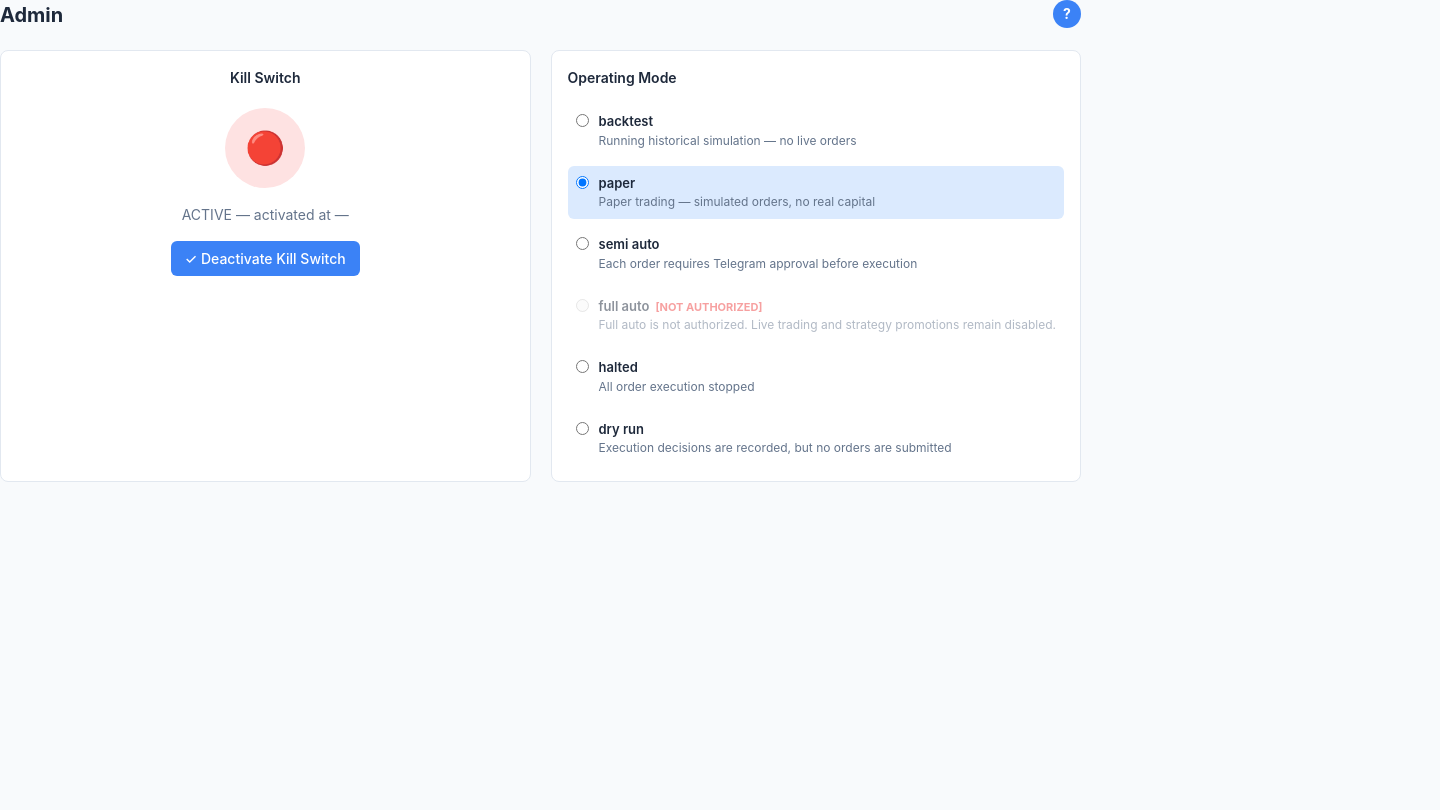
Scenario: F0-3 Admin and Config Safety Guardrails › kill-switch deactivation requires confirmation dialog with mandatory safety copy
Click the button "✓ Deactivate Kill Switch" at (265,258), box left=171, top=241, right=360, bottom=276
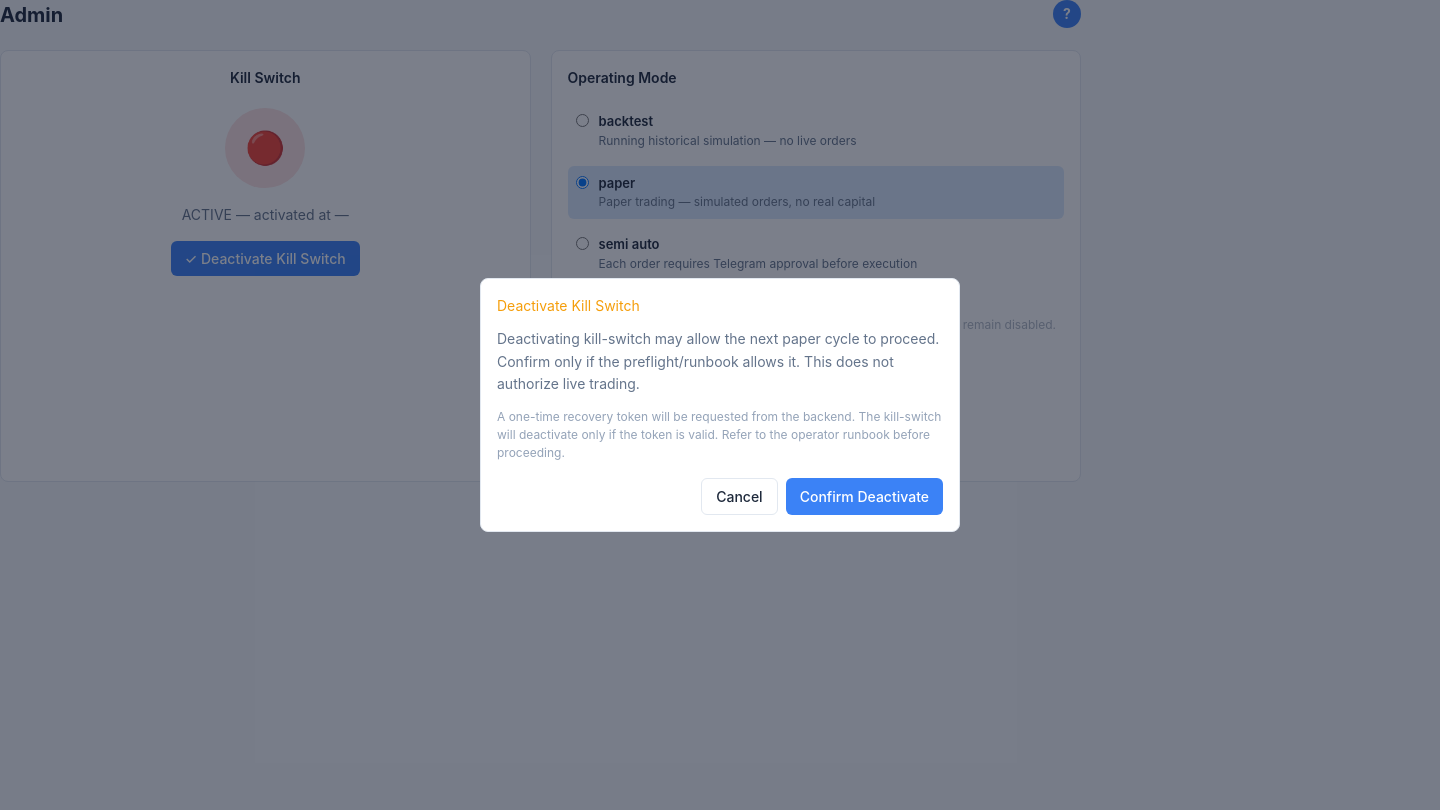
Expected: the text "does not authorize live trading" is shown, left=497, top=330, right=939, bottom=392
